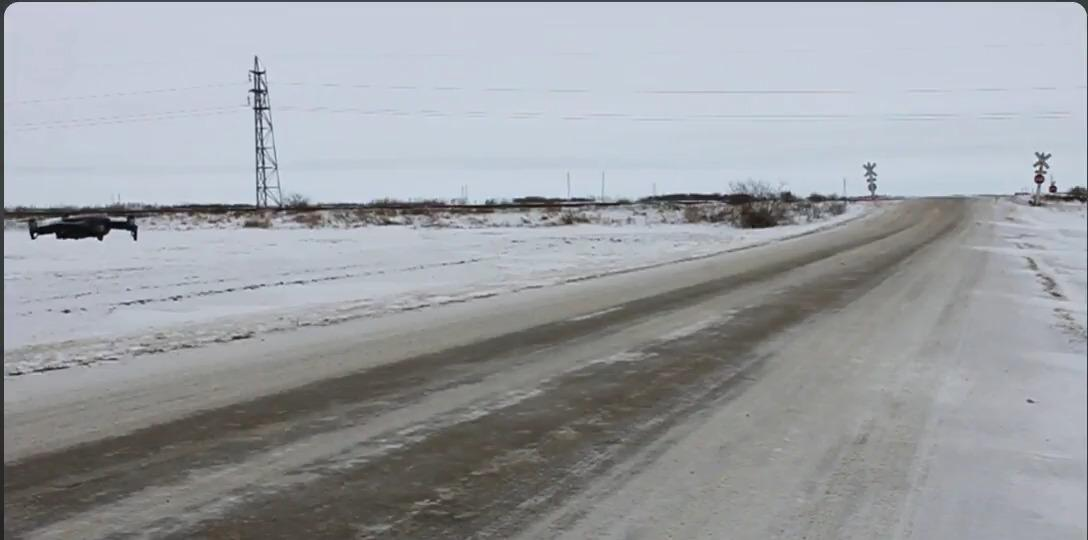dr: (12, 207, 152, 247)
